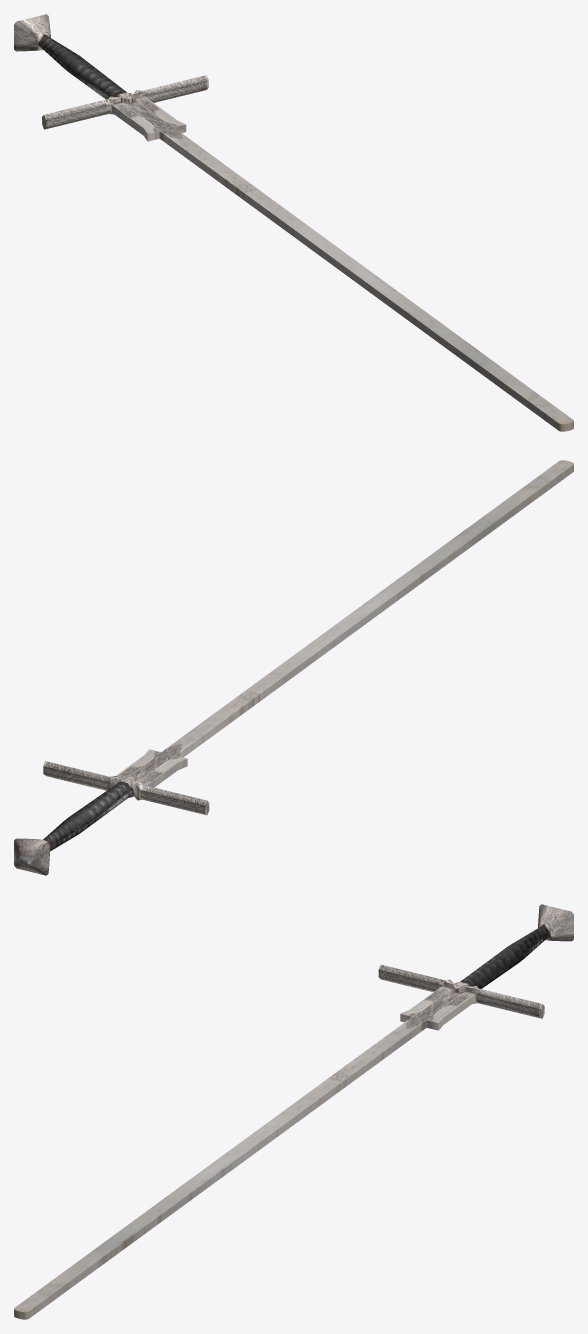
File: psx-hema-practice-sword.glb
The picture shows the model from 3 angles, top to bottom: view 1: azimuth 30°, elevation 25°; view 2: azimuth 150°, elevation 25°; view 3: azimuth 330°, elevation 25°; orthographic projection.
Visible parts, largest first — view 1: practise sword; view 2: practise sword; view 3: practise sword.
Part boxes in pixels (x1,y1,x2,y2): practise sword: (14,14,573,431); practise sword: (14,460,573,875); practise sword: (14,904,573,1319).
Size of the model in its own units: 0.288 by 0.0508 by 1.67.
Materials: 1 (1 with a texture image).
